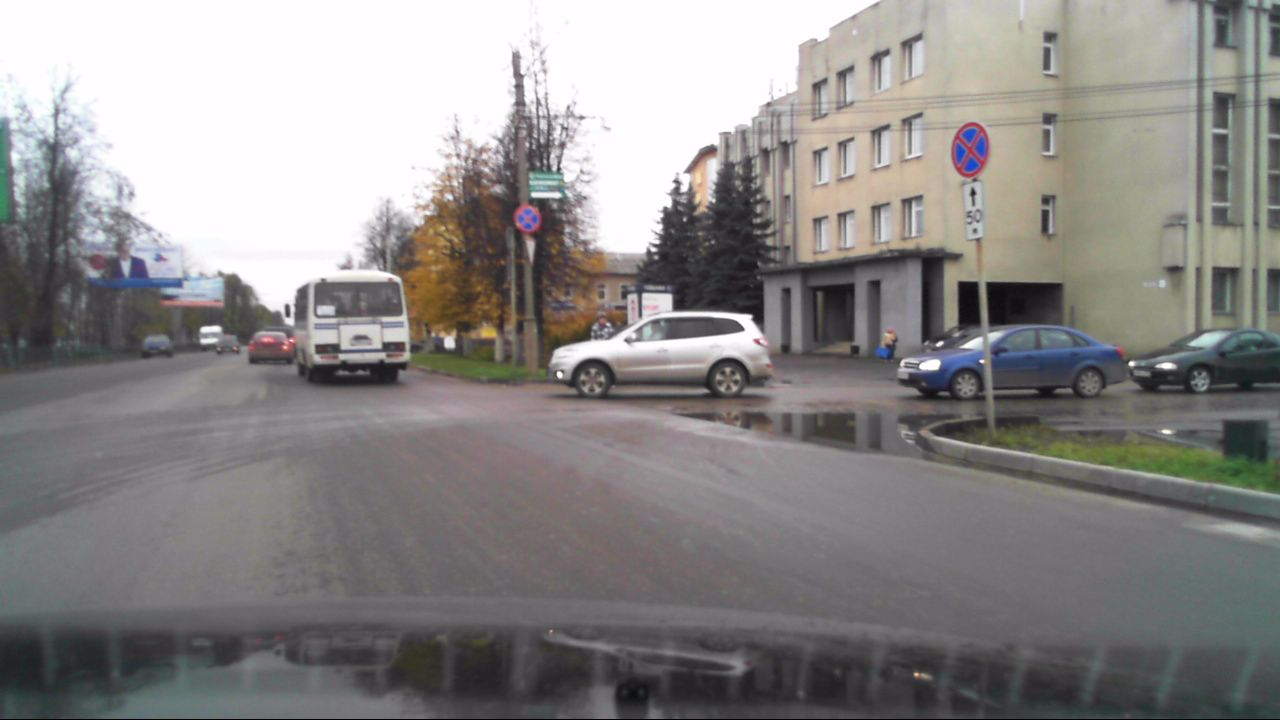No Parking: (513, 205, 540, 233)
